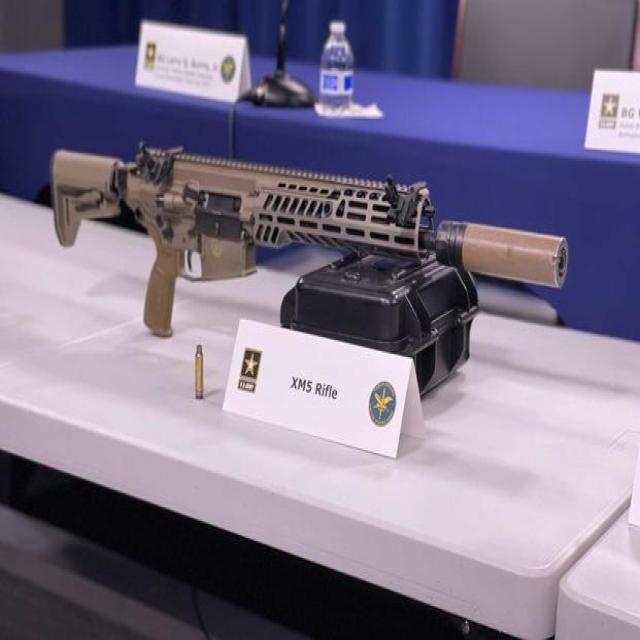Rifle: (50, 145, 571, 339)
